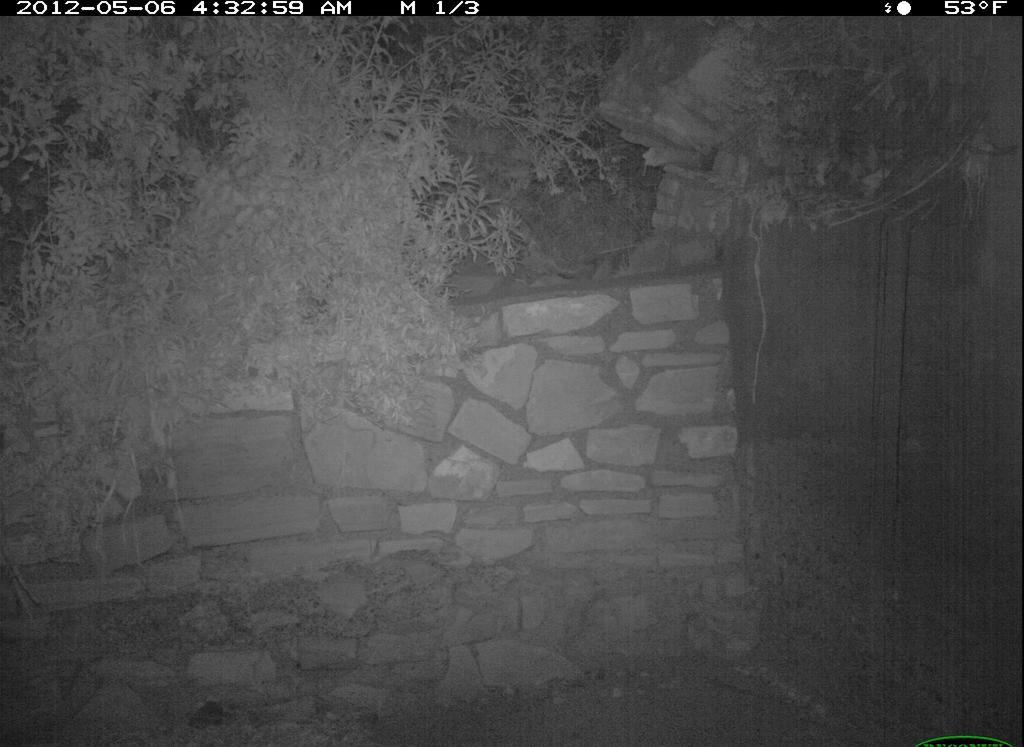raccoon: (423, 190, 586, 283)
